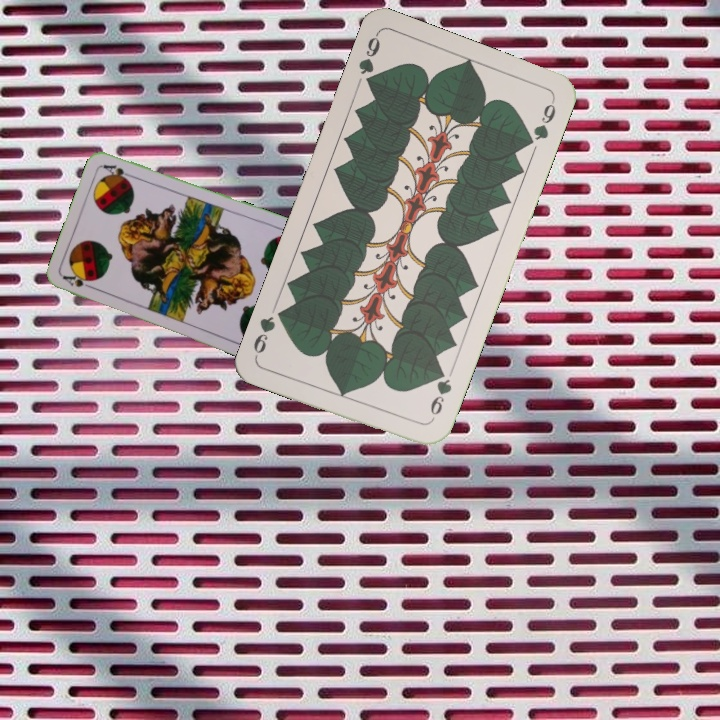G9: (425, 365, 455, 425), (354, 30, 383, 91)
SA: (59, 270, 99, 292)
